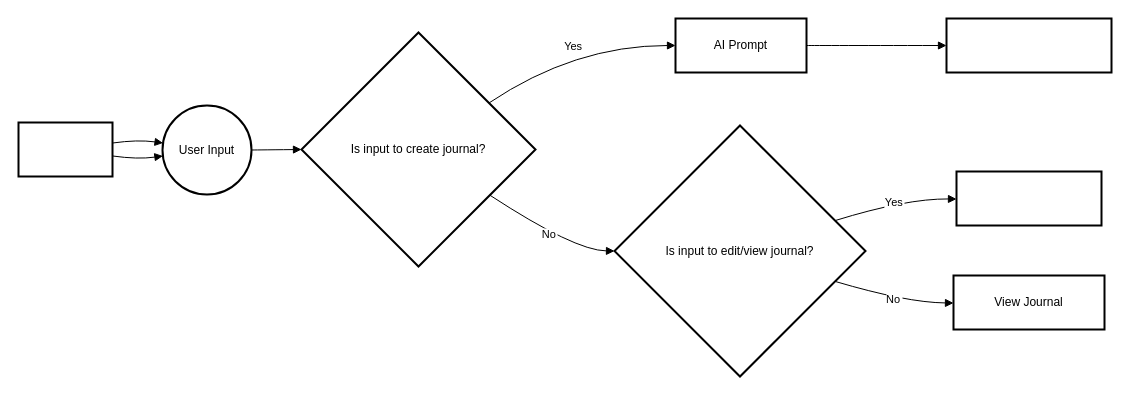
This 1129x394 diagram has some shape labels left out. Here are the shapes that lost their labels. From the top down, the centre of each, then its label:
At (x=1028, y=45): "Create Journal".
At (x=65, y=149): "Start".
At (x=1028, y=198): "Edit Journal".
